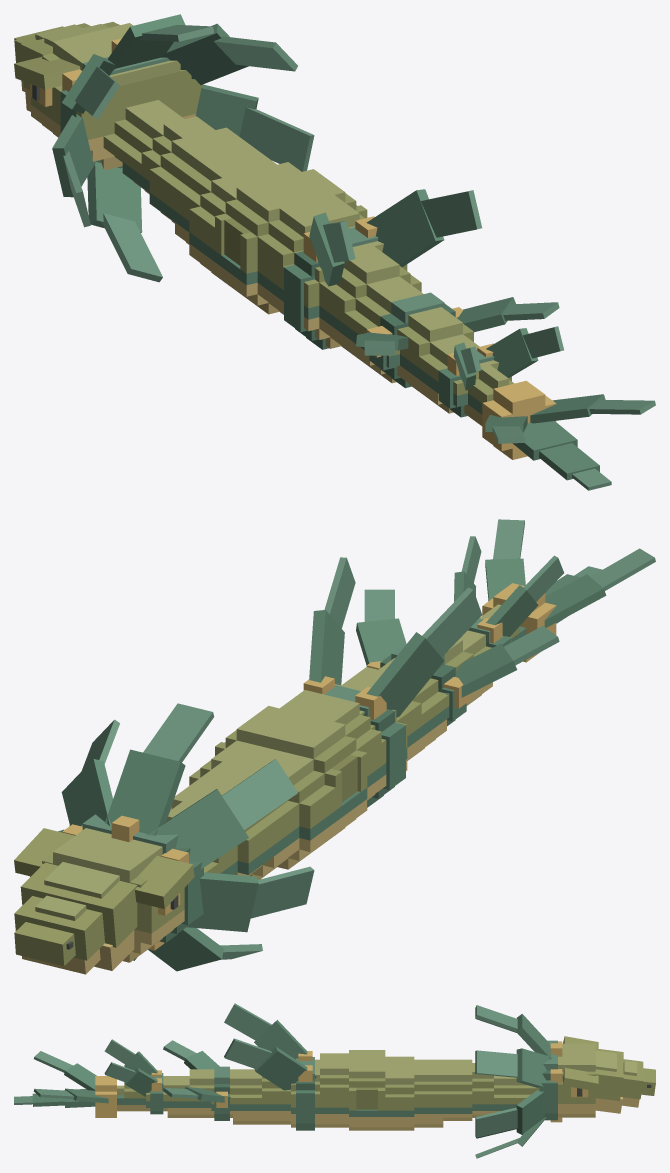
Rendered from KelpWyrm.glb.
3 views of the same model, one above another, from view 1: azimuth 30°, elevation 25°; view 2: azimuth 150°, elevation 25°; view 3: azimuth 270°, elevation 25° (orthographic). The views are drawn at different scales.
Visible parts, largest first — view 1: Head, S9, S7, S12, S15, S8, S10, S4, S6, S5, S11, S13 (+10 smaller); view 2: Head, S9, S7, S12, S6, S15, S8, S5, S4, RibL1, S11, S10 (+7 smaller); view 3: Head, S9, S7, S12, S6, S15, S8, S5, S4, S11, S10, S3 (+13 smaller).
Part boxes in pixels (x1,y1,x2,y2): Head: (14, 14, 314, 282); S9: (283, 189, 482, 349); S7: (215, 169, 367, 314); S12: (356, 292, 559, 388); S15: (438, 326, 563, 417); S8: (257, 195, 364, 314); S10: (319, 246, 421, 364); S4: (149, 127, 251, 223); S6: (189, 162, 301, 290); S5: (175, 146, 276, 244); S11: (344, 276, 423, 383); S13: (400, 309, 473, 399); Head: (14, 703, 314, 974); S9: (309, 557, 481, 807); S7: (215, 705, 367, 850); S12: (356, 589, 559, 726); S6: (189, 740, 335, 869); S15: (454, 536, 563, 650); S8: (280, 690, 381, 799); S5: (197, 761, 299, 879); S4: (170, 780, 273, 875); RibL1: (544, 574, 606, 627); S11: (378, 660, 446, 760); S10: (341, 667, 421, 759); Head: (475, 1005, 655, 1158); S9: (224, 1003, 319, 1130); S7: (349, 1050, 385, 1130); S12: (163, 1040, 232, 1120); S6: (385, 1056, 414, 1130); S15: (104, 1039, 167, 1114); S8: (320, 1053, 348, 1127); S5: (414, 1059, 443, 1127); S4: (443, 1059, 472, 1120); S11: (233, 1069, 261, 1124); S10: (262, 1076, 290, 1124); S3: (472, 1063, 493, 1117).
Size of the model in its own units: 9.76 by 9.51 by 39.84.
